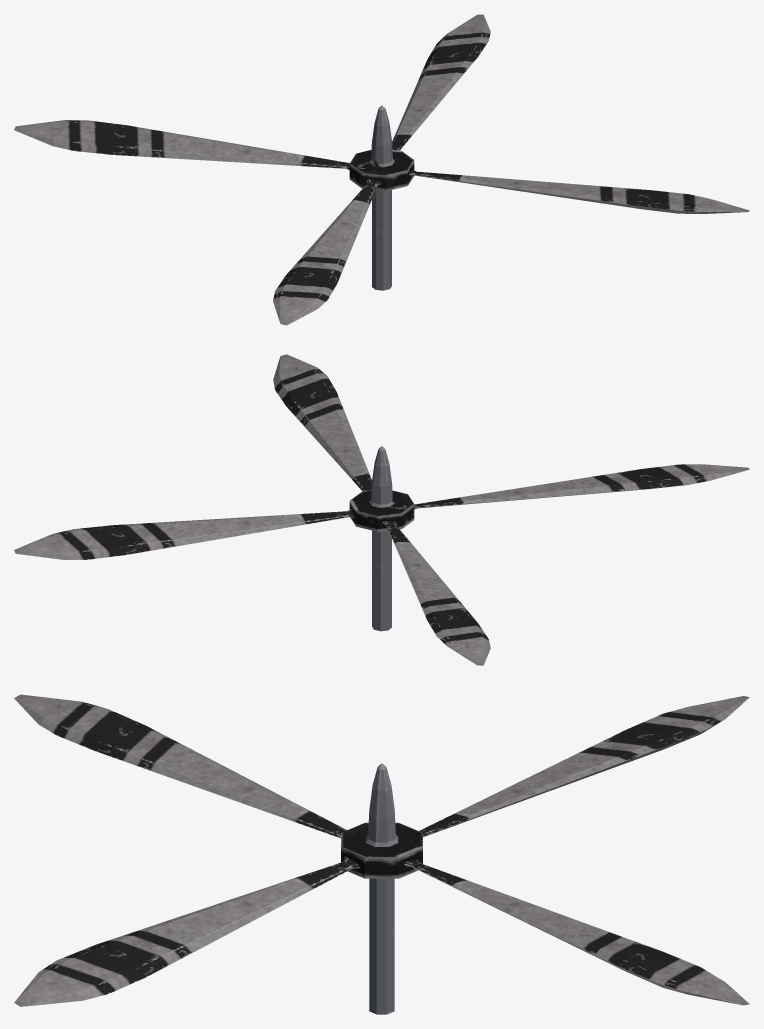
Rendered from propeller_s_2.fbx.
The picture shows the model from 3 angles, top to bottom: view 1: azimuth 30°, elevation 25°; view 2: azimuth 150°, elevation 25°; view 3: azimuth 270°, elevation 25°; orthographic projection. The views are drawn at different scales.
Parts seen in each view (by area): view 1: propeller_s_2; view 2: propeller_s_2; view 3: propeller_s_2.
Boxes of the visible parts, bbox=[...] form: propeller_s_2: bbox=[14, 14, 749, 325]; propeller_s_2: bbox=[14, 354, 749, 665]; propeller_s_2: bbox=[14, 694, 749, 1014].
Bounding box in the file's own units: 6.35 × 2.34 × 6.35.
